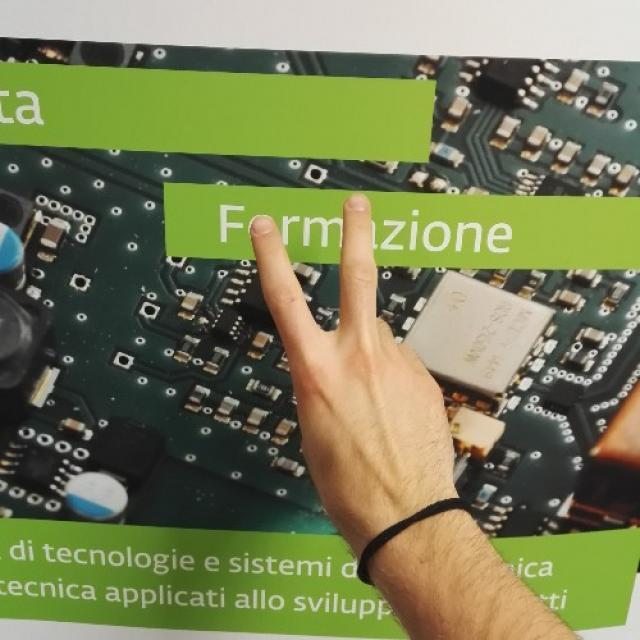scissors: (249, 191, 452, 494)
